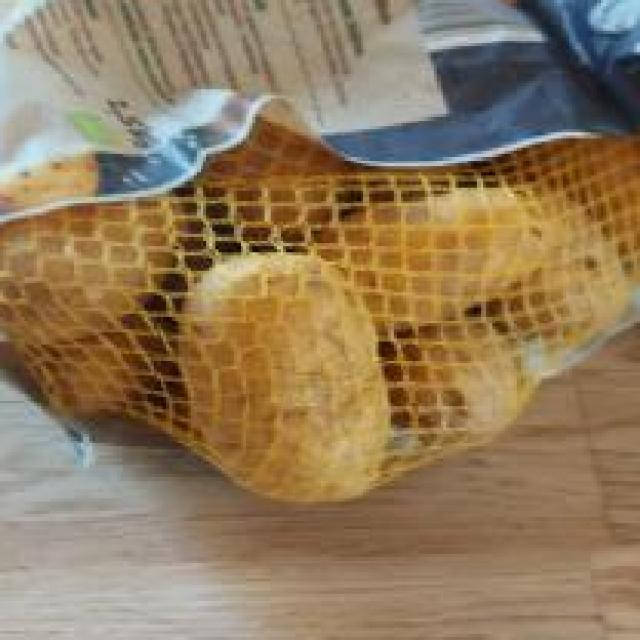potato: (185, 249, 403, 505), (298, 186, 572, 325), (0, 178, 188, 354), (403, 314, 535, 449), (520, 200, 640, 329)
